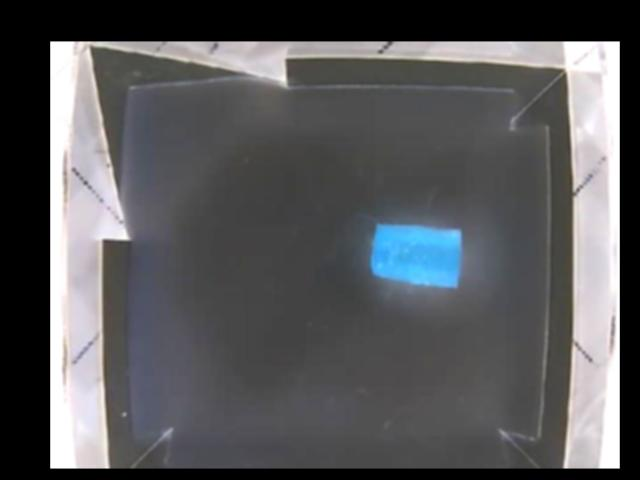Carrot: (371, 222, 464, 288)
